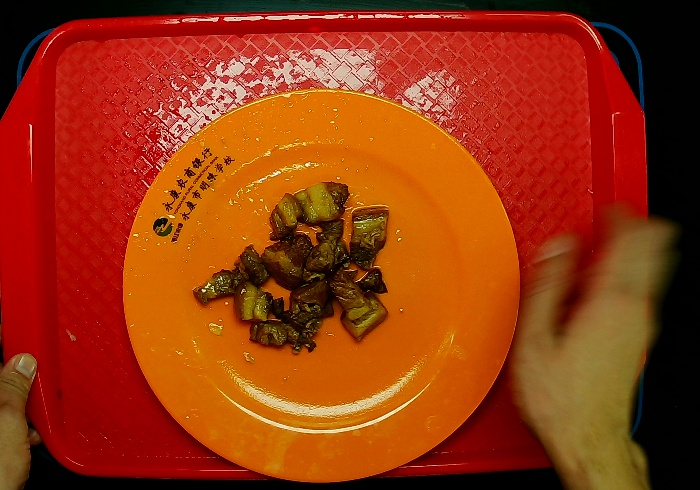YKMZ-Ju_Se_Mian_Pan: (116, 83, 524, 490)
